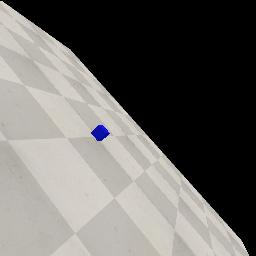box: (91, 125, 110, 141)
